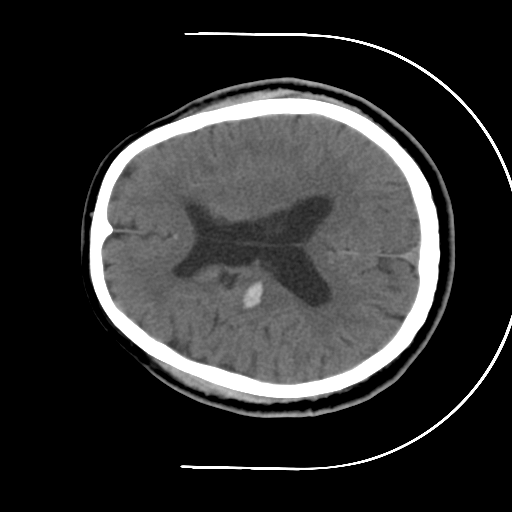a: (223, 268, 279, 321)
